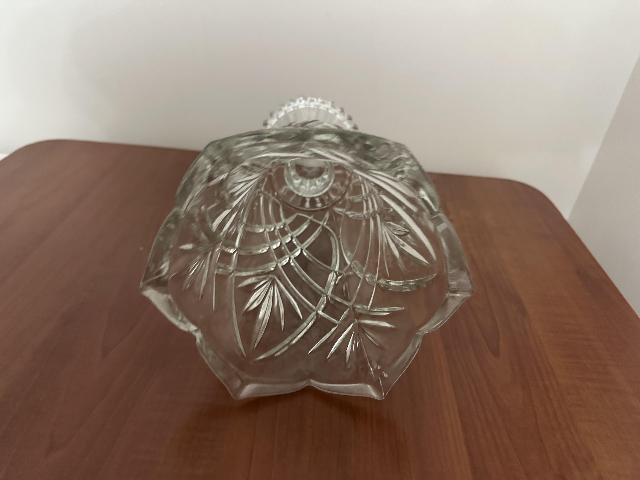Cam: (138, 98, 473, 403)
